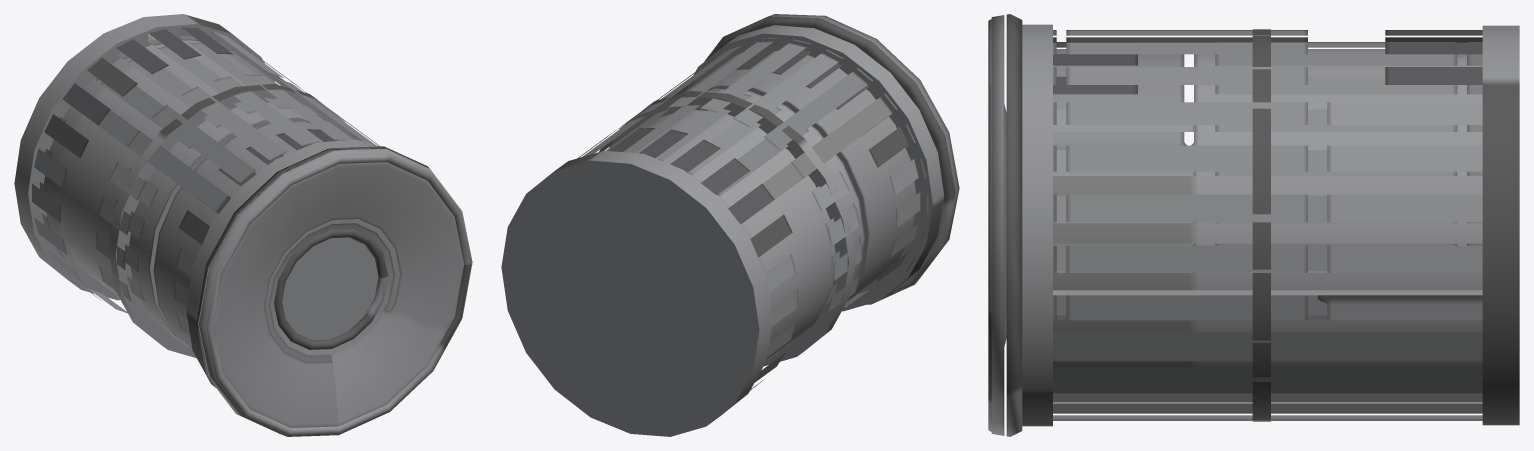
3 renders of one model, left to right at view 1: azimuth 30°, elevation 25°; view 2: azimuth 150°, elevation 25°; view 3: azimuth 270°, elevation 25°, orthographic. The views are drawn at different scales.
Bounding box in the file's own units: 0.69 × 0.69 × 0.8654.
